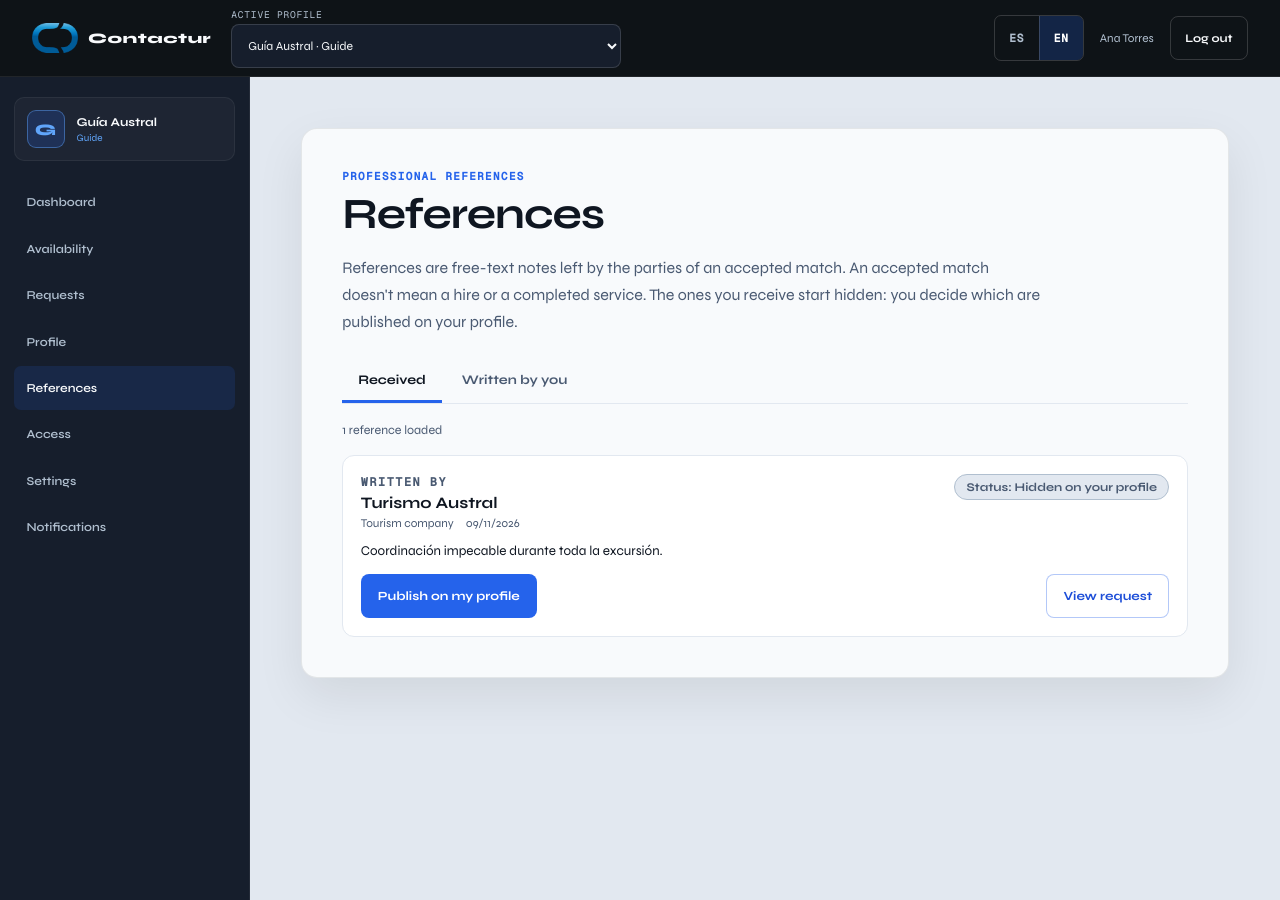
Test: i18n — referencias en inglés › pestañas, fila recibida y estado vacío de las escritas
The width and height of the screenshot is (1280, 900).
Check: the heading "References" is shown, box [342,188,604,240]
Check: the element "Turismo Austral" shows "Written by", box [361,474,447,489]
Click the tab "Written by you" at [515, 381], box [446,359,583,403]
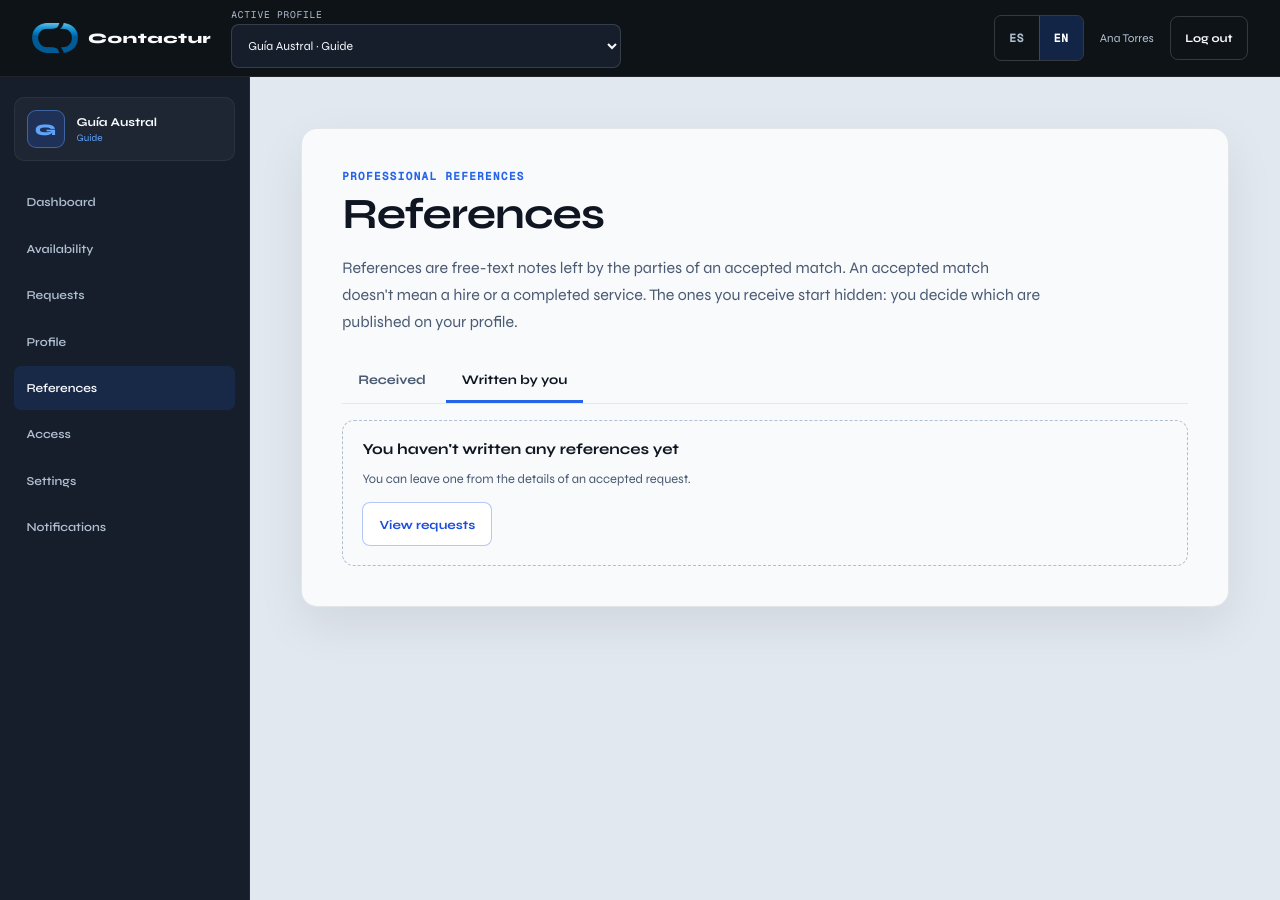
Check: the heading "You haven't written any references yet" is shown, box [362,440,679,458]
Check: the link "View requests" is shown, box [362,502,492,546]
